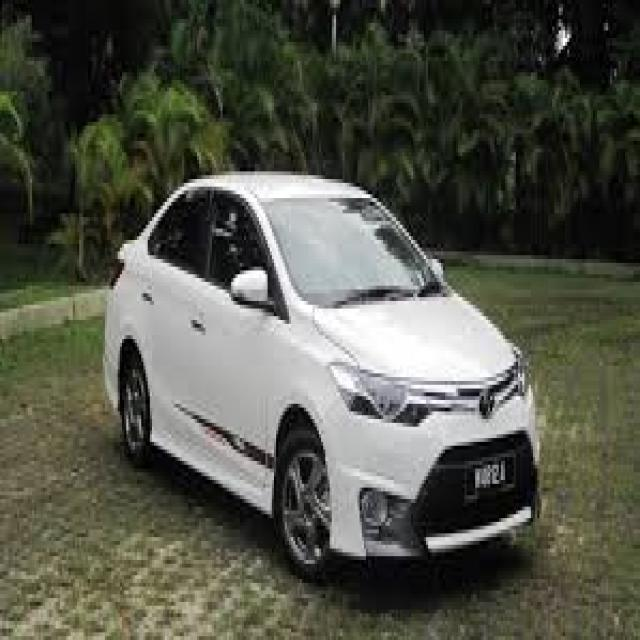ToyotaVios: (100, 164, 542, 583)
